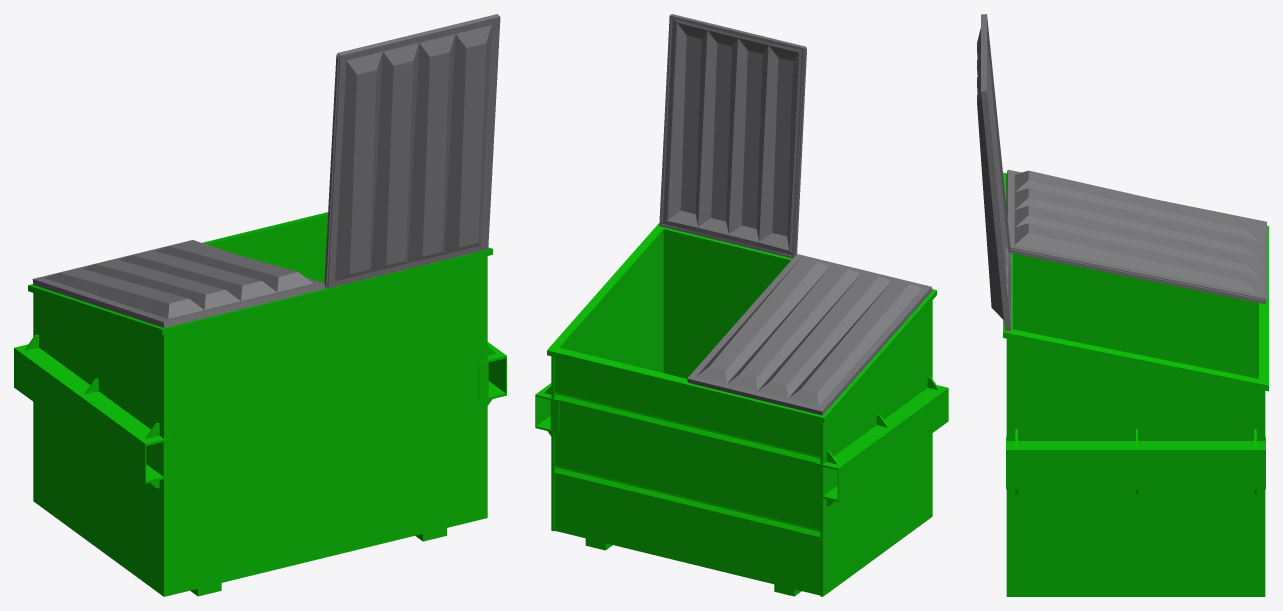
File: Dumpster_OpenLeft.fbx
The picture shows the model from 3 angles, left to right: view 1: azimuth 30°, elevation 25°; view 2: azimuth 150°, elevation 25°; view 3: azimuth 270°, elevation 25°; orthographic projection. The views are drawn at different scales.
Parts seen in each view (by area): view 1: Container, Lid_OpenLeft, SideThingys; view 2: Container, Lid_OpenLeft, SideThingys; view 3: Container, Lid_OpenLeft, SideThingys.
Boxes of the visible parts, x1,y1,x2,y2 form: Container: (28,212,492,596); Lid_OpenLeft: (32,14,500,327); SideThingys: (14,334,506,488); Container: (547,223,936,596); Lid_OpenLeft: (659,14,932,415); SideThingys: (535,377,948,505); Container: (1003,172,1268,596); Lid_OpenLeft: (977,14,1266,331); SideThingys: (1006,429,1265,493).
Bounding box in the file's own units: 271 × 375 × 192.
